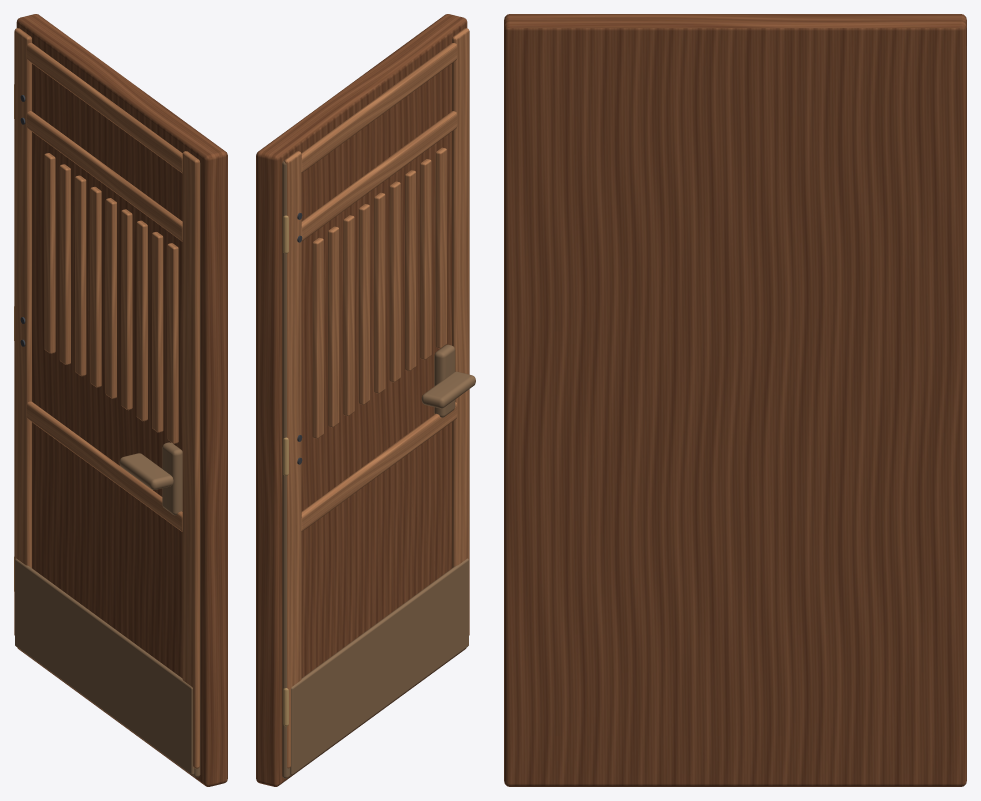
The model's file is band-tower-door.glb.
3 views of the same model, side by side, from view 1: azimuth 30°, elevation 25°; view 2: azimuth 150°, elevation 25°; view 3: azimuth 270°, elevation 25° (orthographic). The views are drawn at different scales.
Visible parts, largest first — view 1: Acoustic door leaf, Acoustic face rib, Kickplate; view 2: Acoustic door leaf, Acoustic face rib, Kickplate, Hinge leaf plate; view 3: Acoustic door leaf.
Part boxes in pixels (x1,y1,x2,y2): Acoustic door leaf: (16,14,227,786); Acoustic face rib: (14,28,199,768); Kickplate: (15,163,200,777); Acoustic door leaf: (256,14,467,786); Acoustic face rib: (284,28,469,768); Kickplate: (282,160,475,778); Hinge leaf plate: (283,215,288,726); Acoustic door leaf: (504,14,966,786).
Size of the model in its own units: 0.2 by 2.22 by 1.22.
Materials: 5 (2 with a texture image).
